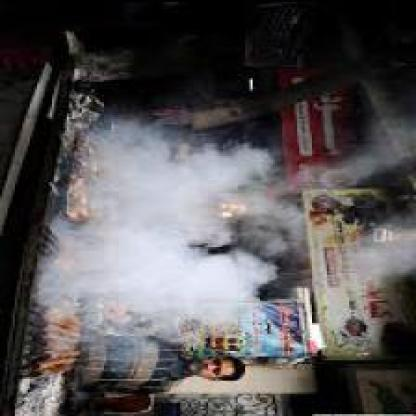Smoke: (34, 115, 416, 364)
